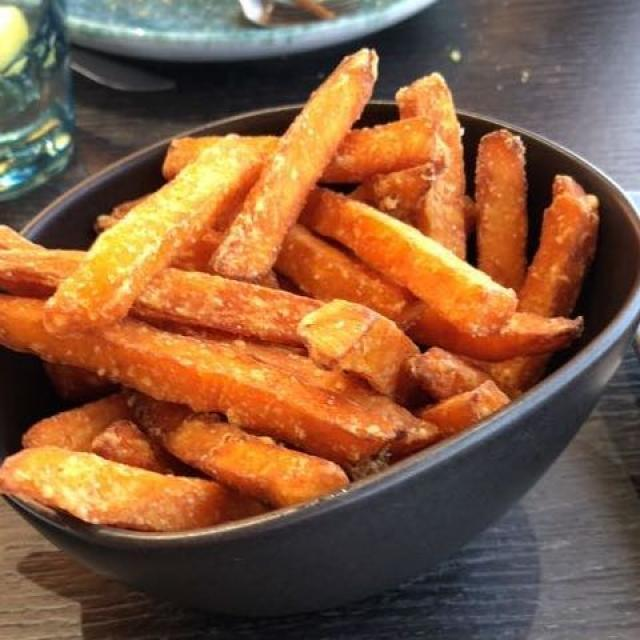sweet-potato: (11, 67, 593, 519)
